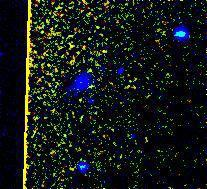star: (66, 86, 96, 116)
